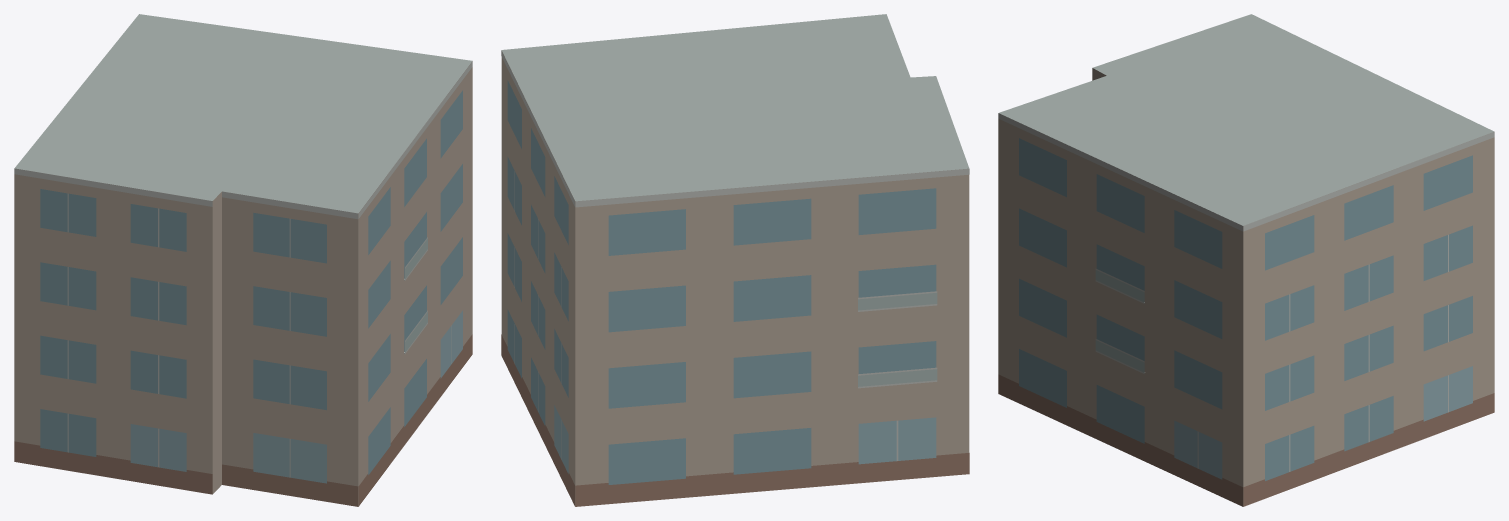
The model's file is survey-upis-32991278.glb.
The picture shows the model from 3 angles, left to right: view 1: azimuth 30°, elevation 25°; view 2: azimuth 150°, elevation 25°; view 3: azimuth 270°, elevation 25°; orthographic projection. The views are drawn at different scales.
Parts seen in each view (by area): view 1: survey-upis-32991278.tmp; view 2: survey-upis-32991278.tmp; view 3: survey-upis-32991278.tmp.
Boxes of the visible parts, x1,y1,x2,y2 form: survey-upis-32991278.tmp: [14, 14, 472, 506]; survey-upis-32991278.tmp: [501, 14, 969, 506]; survey-upis-32991278.tmp: [998, 14, 1494, 506].
Bounding box in the file's own units: 19.75 × 12.2 × 19.54.
